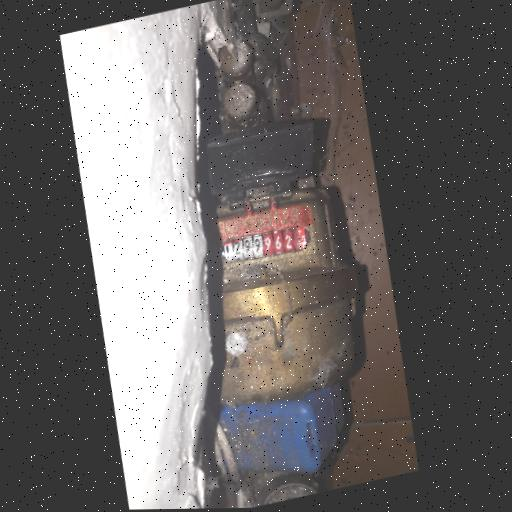1: (221, 242, 236, 261)
2: (293, 226, 310, 251), (279, 228, 295, 253), (231, 239, 246, 261)
6: (270, 231, 285, 255)
9: (260, 232, 275, 255), (251, 235, 266, 257), (242, 235, 255, 259)
border_water_meter_number: (216, 219, 315, 268)
